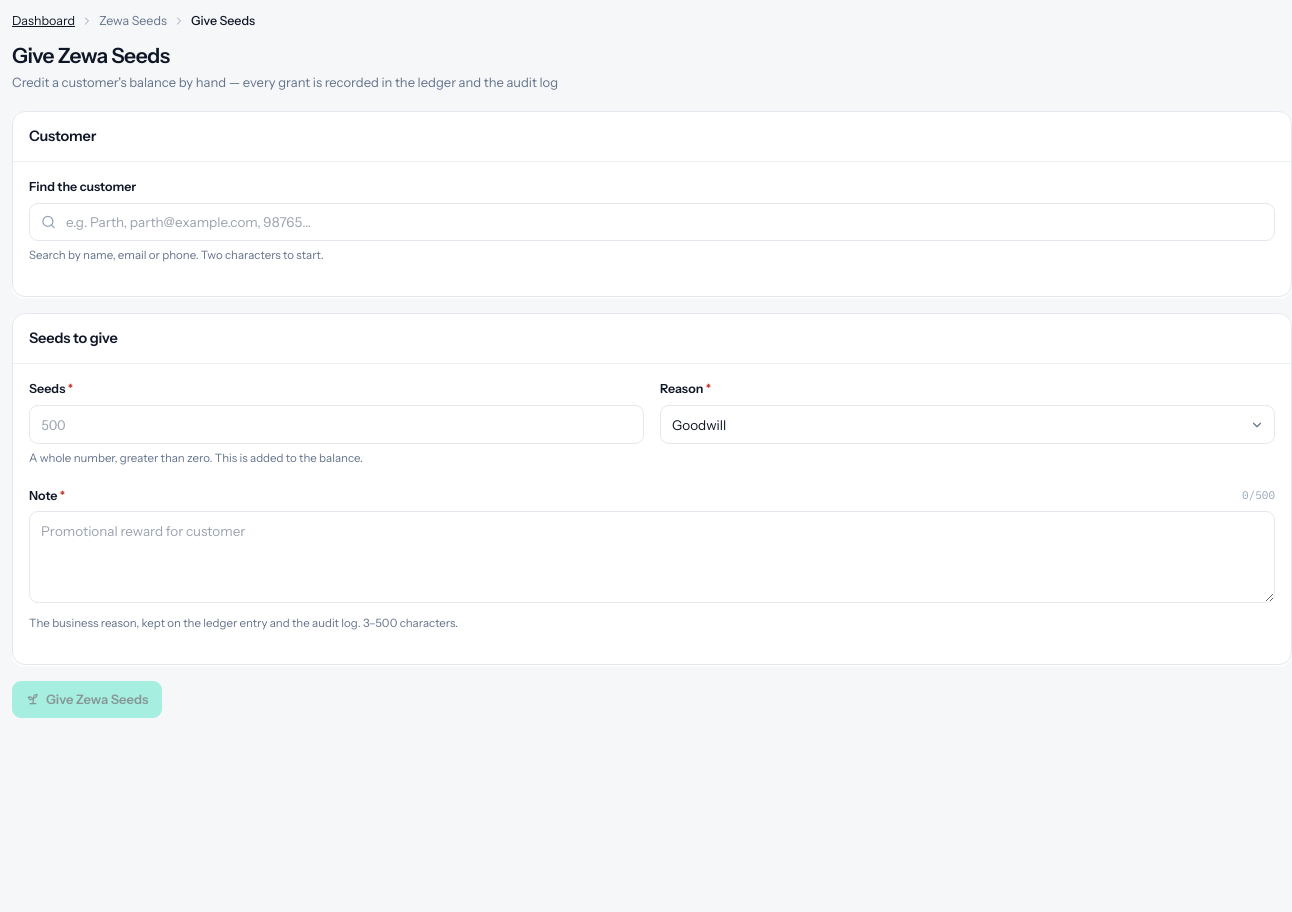
customer selection › searches server-side and shows enough identity to pick the right person
In the field labelled "Find the customer": [652, 222] box [29,203,1275,241], type "parth"
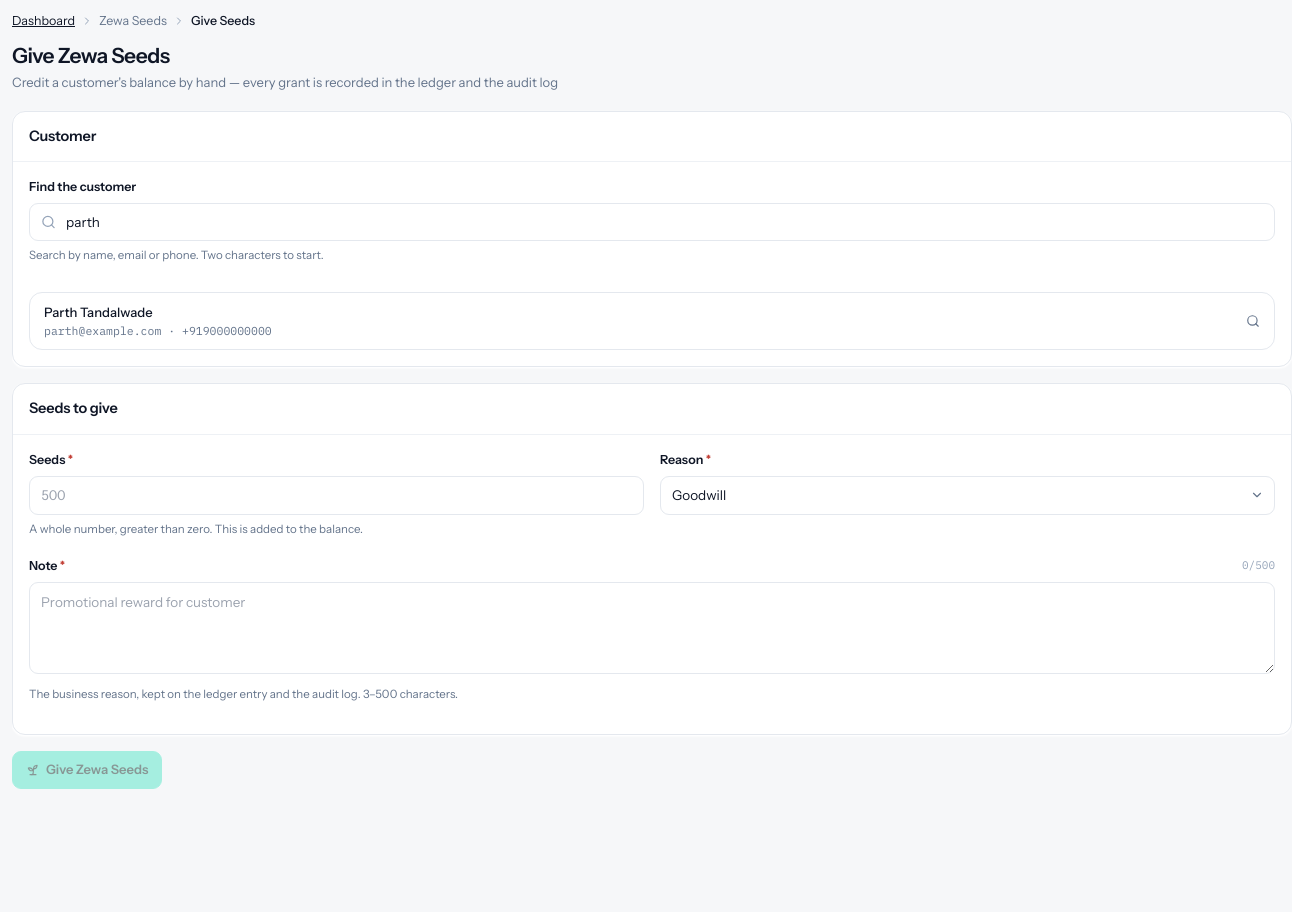
Expected: the text "Parth Tandalwade" is shown, [44,304,153,320]
Expected: the text "parth@example.com · +919000000000" is shown, [44,322,272,339]
